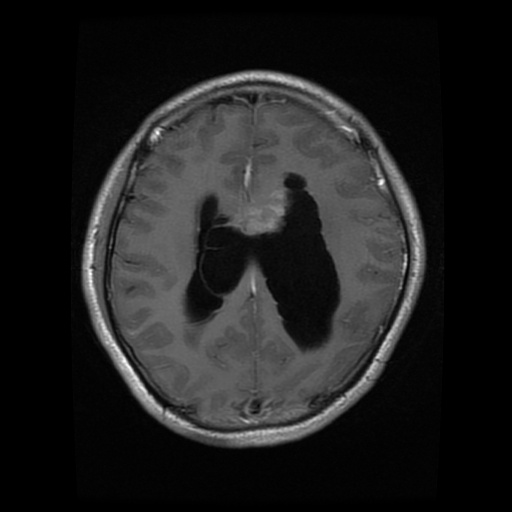glioma: (216, 181, 291, 235)
